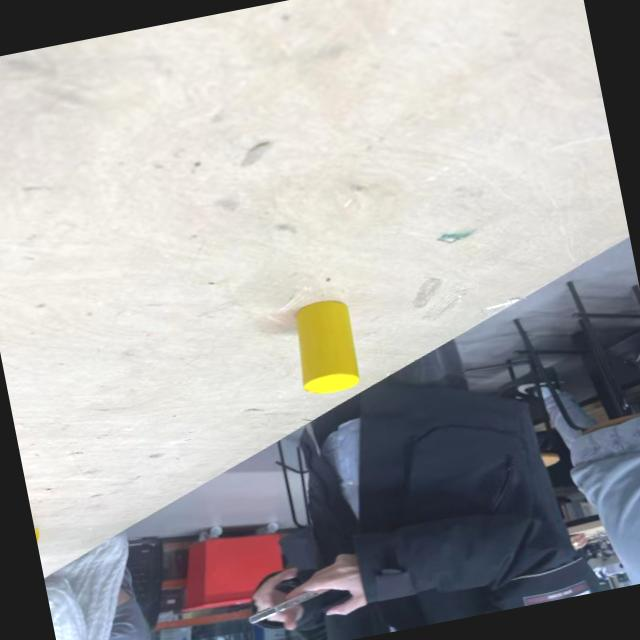yellow_cylinder: (286, 296, 364, 399)
